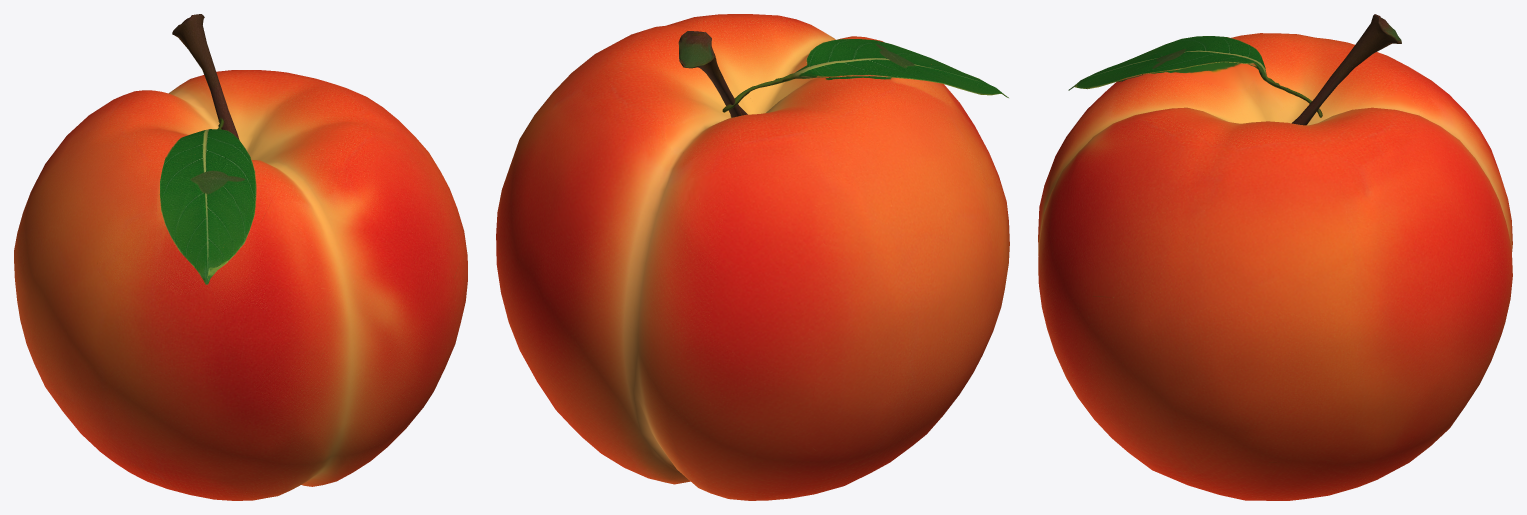
The model's file is georgia-peach.glb.
The picture shows the model from 3 angles, left to right: view 1: azimuth 30°, elevation 25°; view 2: azimuth 150°, elevation 25°; view 3: azimuth 270°, elevation 25°; orthographic projection. The views are drawn at different scales.
Bounding box in the file's own units: 0.9331 × 0.9512 × 0.9092.
Materials: 1 (1 with a texture image).
